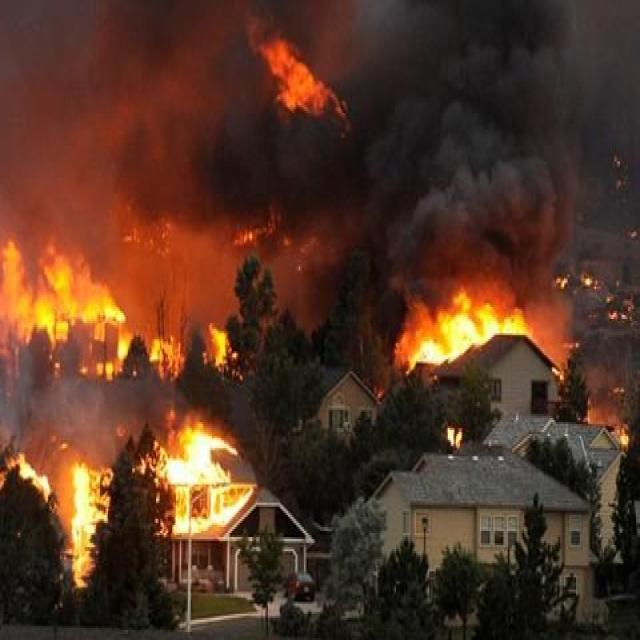Fire: (116, 228, 246, 369), (0, 242, 131, 381), (152, 410, 260, 538), (391, 293, 525, 377), (264, 17, 343, 118), (220, 222, 314, 294), (70, 462, 109, 592), (553, 270, 640, 327), (591, 366, 633, 452), (151, 335, 183, 378)
Smoke: (389, 84, 598, 268), (140, 116, 374, 219), (0, 0, 111, 198)
